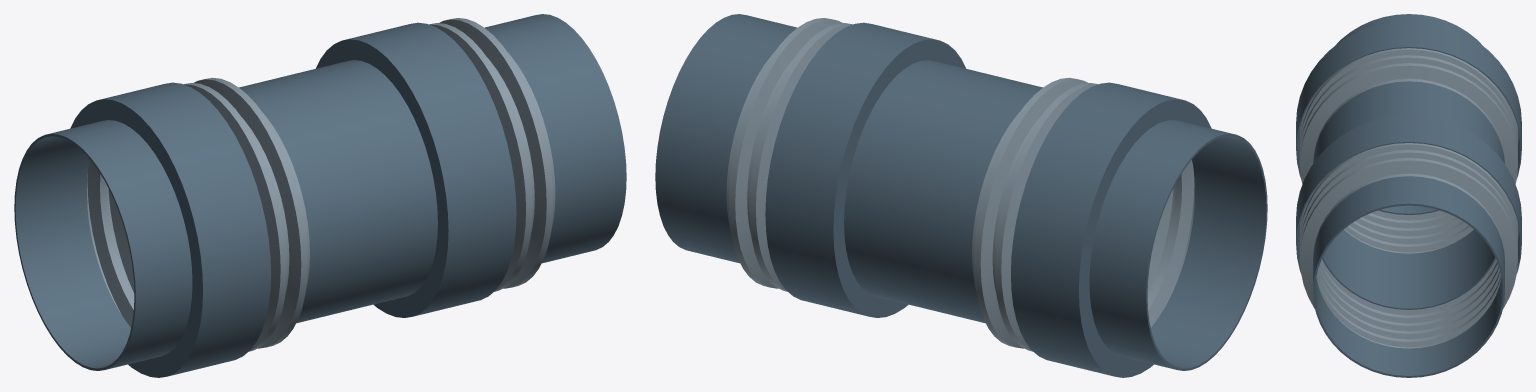
File: 2silf-dn800-L1914-D820-k-o1020.glb
3 renders of one model, left to right at view 1: azimuth 30°, elevation 25°; view 2: azimuth 150°, elevation 25°; view 3: azimuth 270°, elevation 25°, orthographic. The views are drawn at different scales.
Visible parts, largest first — view 1: patrubok_1, osnovanie_kozhuh_2, osnovanie_kozhuh_1, patrubok_2, patrubok_4, prokladka_silfon_1, patrubok_3, prokladka_silfon_2; view 2: patrubok_1, osnovanie_kozhuh_2, osnovanie_kozhuh_1, patrubok_2, patrubok_4, prokladka_silfon_1, patrubok_3, prokladka_silfon_2; view 3: prokladka_silfon_2, prokladka_silfon_1, patrubok_4, patrubok_2, osnovanie_kozhuh_1, osnovanie_kozhuh_2, patrubok_3, patrubok_1.
Part boxes in pixels (bbox=[...]): patrubok_1: bbox=[14, 120, 192, 370]; osnovanie_kozhuh_2: bbox=[316, 22, 516, 317]; osnovanie_kozhuh_1: bbox=[70, 82, 270, 377]; patrubok_2: bbox=[239, 74, 381, 323]; patrubok_4: bbox=[485, 14, 626, 263]; prokladka_silfon_1: bbox=[87, 77, 309, 351]; patrubok_3: bbox=[292, 60, 437, 309]; prokladka_silfon_2: bbox=[429, 18, 555, 291]; patrubok_1: bbox=[1089, 120, 1267, 370]; osnovanie_kozhuh_2: bbox=[765, 22, 965, 317]; osnovanie_kozhuh_1: bbox=[1011, 82, 1211, 377]; patrubok_2: bbox=[900, 74, 1042, 323]; patrubok_4: bbox=[655, 14, 796, 263]; prokladka_silfon_1: bbox=[972, 77, 1194, 351]; patrubok_3: bbox=[844, 60, 989, 309]; prokladka_silfon_2: bbox=[726, 18, 852, 291]; prokladka_silfon_2: bbox=[1300, 143, 1517, 348]; prokladka_silfon_1: bbox=[1300, 48, 1517, 253]; patrubok_4: bbox=[1313, 176, 1504, 377]; patrubok_2: bbox=[1313, 81, 1504, 281]; osnovanie_kozhuh_1: bbox=[1296, 20, 1521, 177]; osnovanie_kozhuh_2: bbox=[1296, 115, 1521, 272]; patrubok_3: bbox=[1322, 109, 1495, 309]; patrubok_1: bbox=[1335, 14, 1482, 214].
Bounding box in the file's own units: 1914 × 963 × 963.
